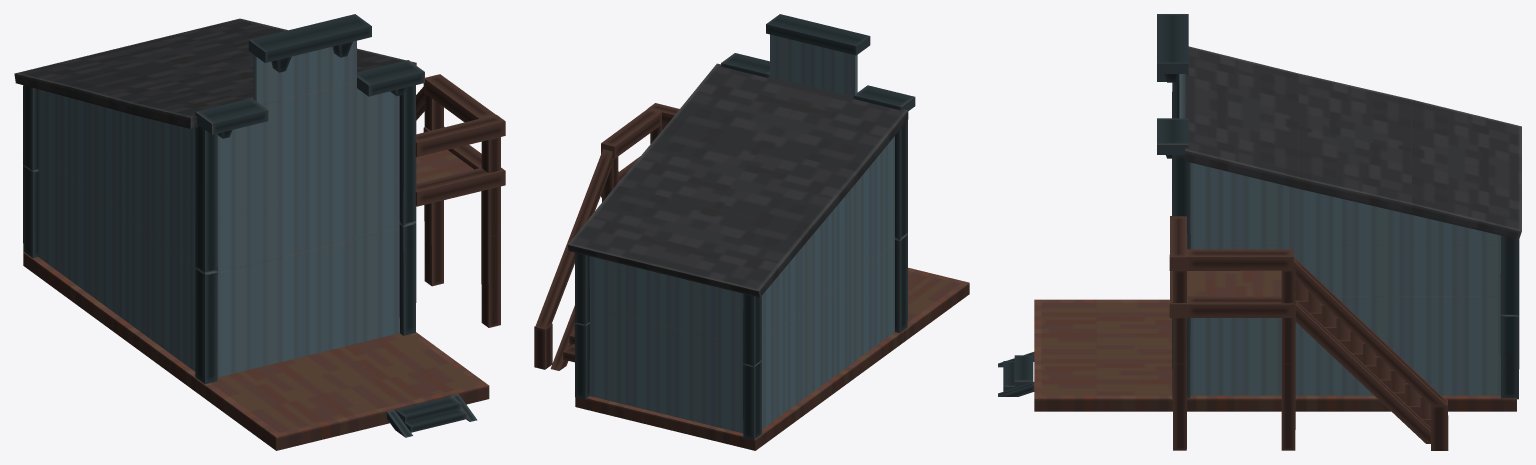
The model's file is house_v4_blank_ncl1_3.fbx.
3 renders of one model, left to right at view 1: azimuth 30°, elevation 25°; view 2: azimuth 150°, elevation 25°; view 3: azimuth 270°, elevation 25°, orthographic. The views are drawn at different scales.
Visible parts, largest first — view 1: house_v4_blank; view 2: house_v4_blank; view 3: house_v4_blank.
Boxes of the visible parts, left/top/right/bottom form: house_v4_blank: left=14, top=14, right=505, bottom=450; house_v4_blank: left=534, top=14, right=969, bottom=450; house_v4_blank: left=998, top=14, right=1521, bottom=450.
Bounding box in the file's own units: 613 × 649 × 951.
